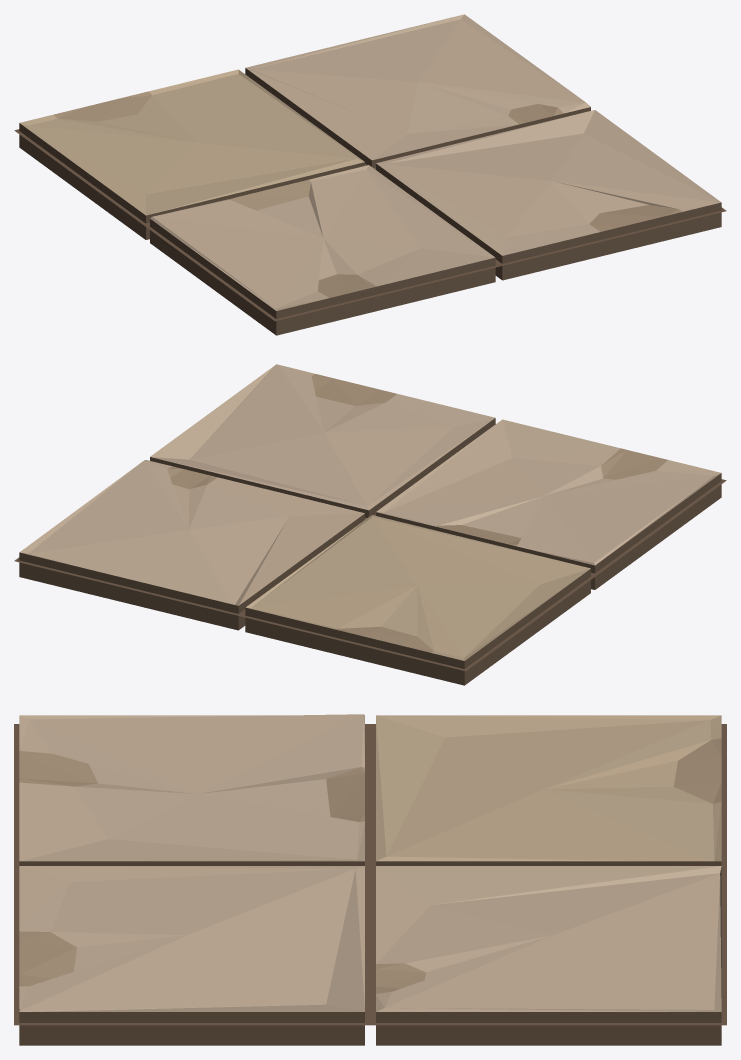
File: SM_Ground_PavingTile_Rough_03.fbx
3 views of the same model, one above another, from view 1: azimuth 30°, elevation 25°; view 2: azimuth 150°, elevation 25°; view 3: azimuth 270°, elevation 25° (orthographic). The views are drawn at different scales.
Visible parts, largest first — view 1: SM_Ground_PavingTile_Rough_03; view 2: SM_Ground_PavingTile_Rough_03; view 3: SM_Ground_PavingTile_Rough_03.
Part boxes in pixels (left/top/right/bottom): SM_Ground_PavingTile_Rough_03: left=14, top=14, right=726, bottom=335; SM_Ground_PavingTile_Rough_03: left=14, top=364, right=726, bottom=685; SM_Ground_PavingTile_Rough_03: left=14, top=714, right=726, bottom=1045.
Size of the model in its own units: 1 by 0.0598 by 1.
Materials: 1 (1 with a texture image).
